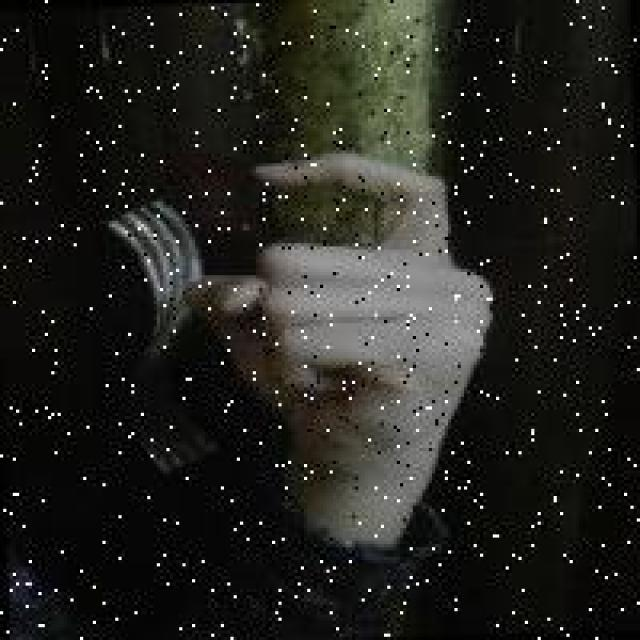X: (174, 139, 504, 456)
